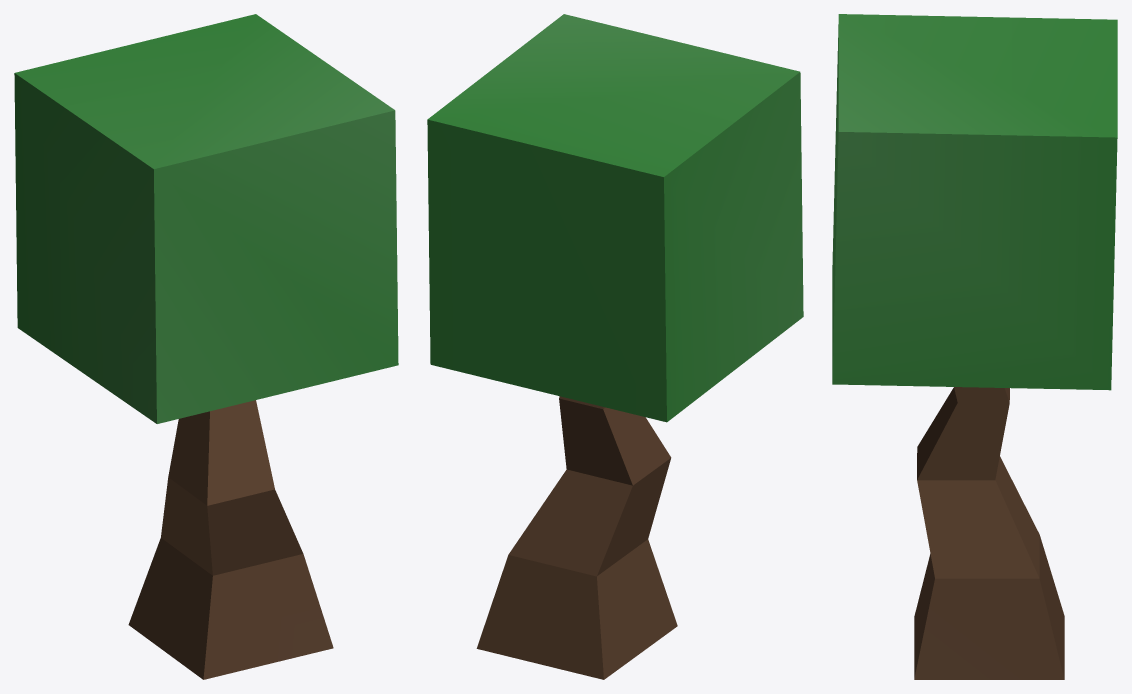
File: tree_02_v1.gltf
3 renders of one model, left to right at view 1: azimuth 30°, elevation 25°; view 2: azimuth 150°, elevation 25°; view 3: azimuth 270°, elevation 25°, orthographic. The views are drawn at different scales.
Visible parts, largest first — view 1: Tree_02; view 2: Tree_02; view 3: Tree_02.
Boxes of the visible parts, <box> form: Tree_02: <box>14,14,398,679</box>; Tree_02: <box>427,14,803,679</box>; Tree_02: <box>832,14,1117,679</box>.
Bounding box in the file's own units: 1.07 × 2.37 × 1.1.
